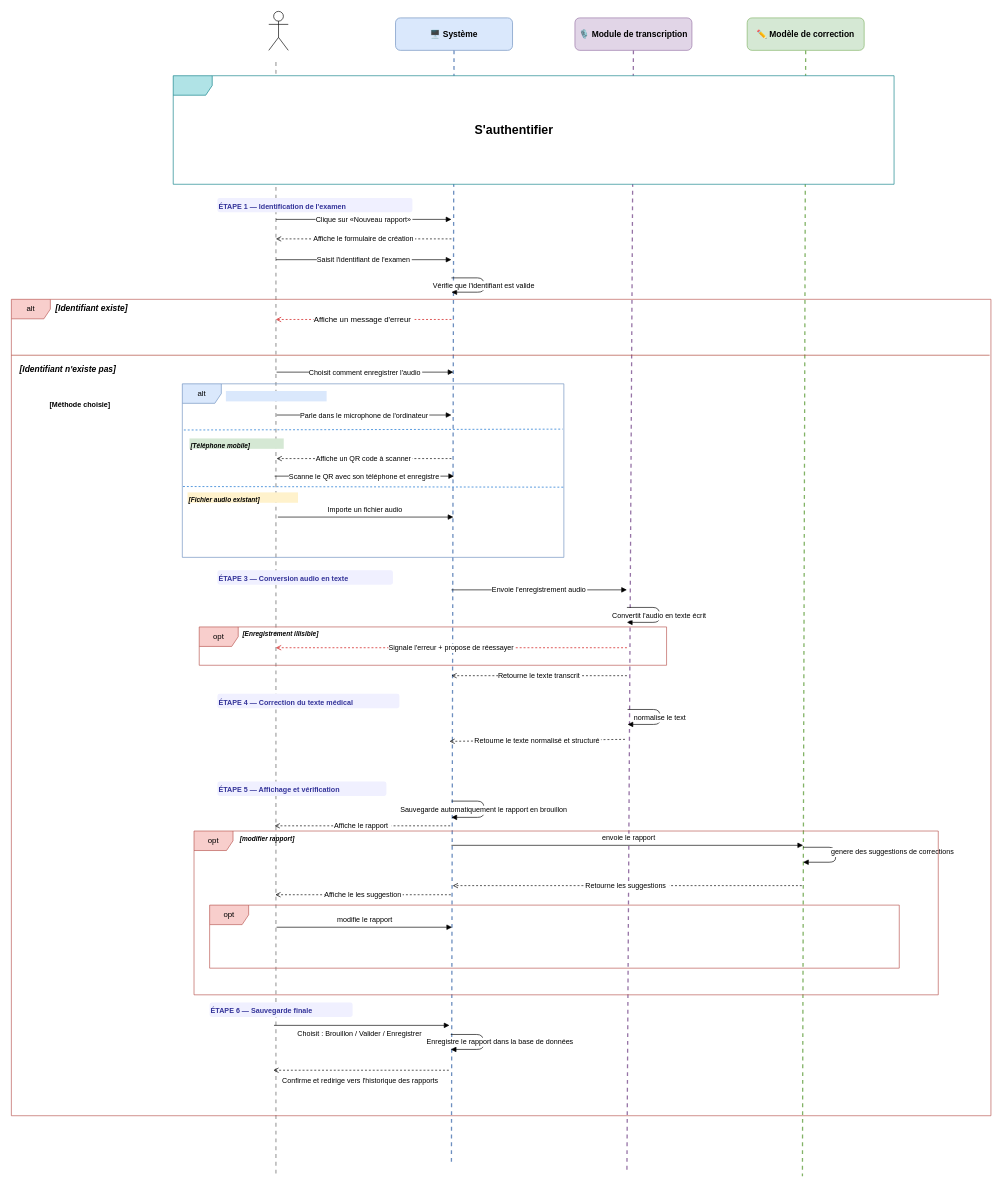
The diagram is 1002 pixels wide and 1189 high, and some of its shapes have lost their labels. Each missing label, with the box of its shape:
[Microphone direct]: (226, 391, 326, 401)
Actor: (268, 11, 288, 50)
Ref: (173, 75, 894, 184)
